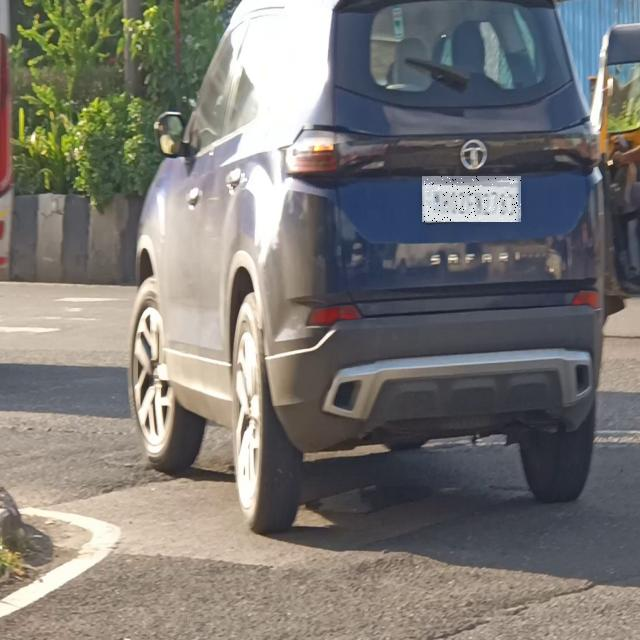Plate: (423, 177, 522, 223)
